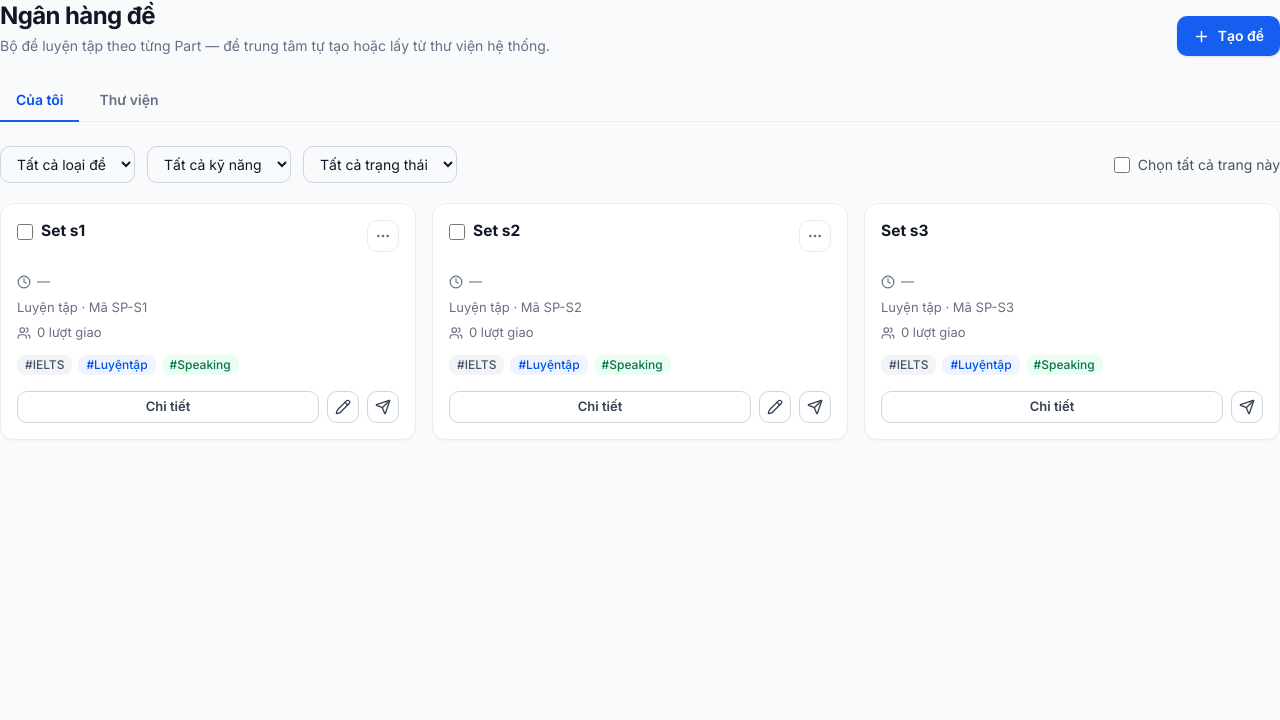
BanksPage lifecycle actions › keeps a set that failed to delete selected and reports the partial result
Expected: the element with test id "bank-card-s1" is shown, [0,203,416,440]
Click the checkbox with test id "bank-select-s1" at (25, 232), box [17,224,33,240]
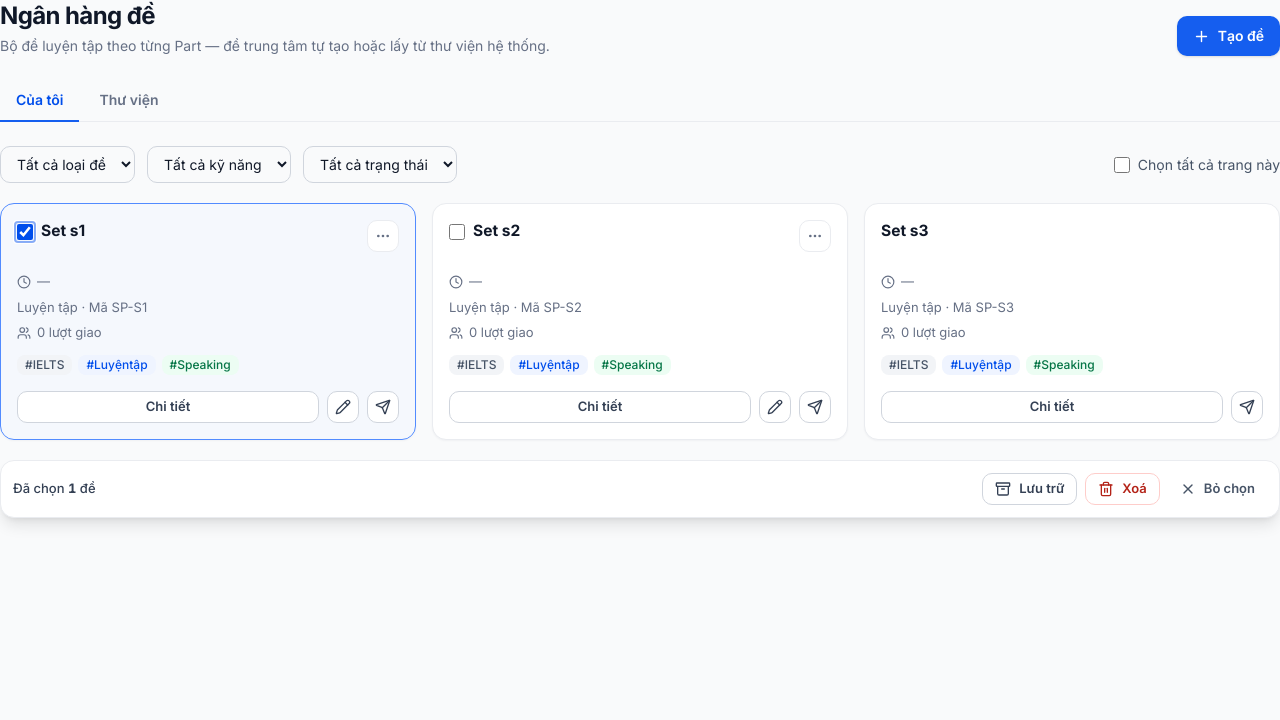
Click the checkbox with test id "bank-select-s2" at (457, 232), box [449,224,465,240]
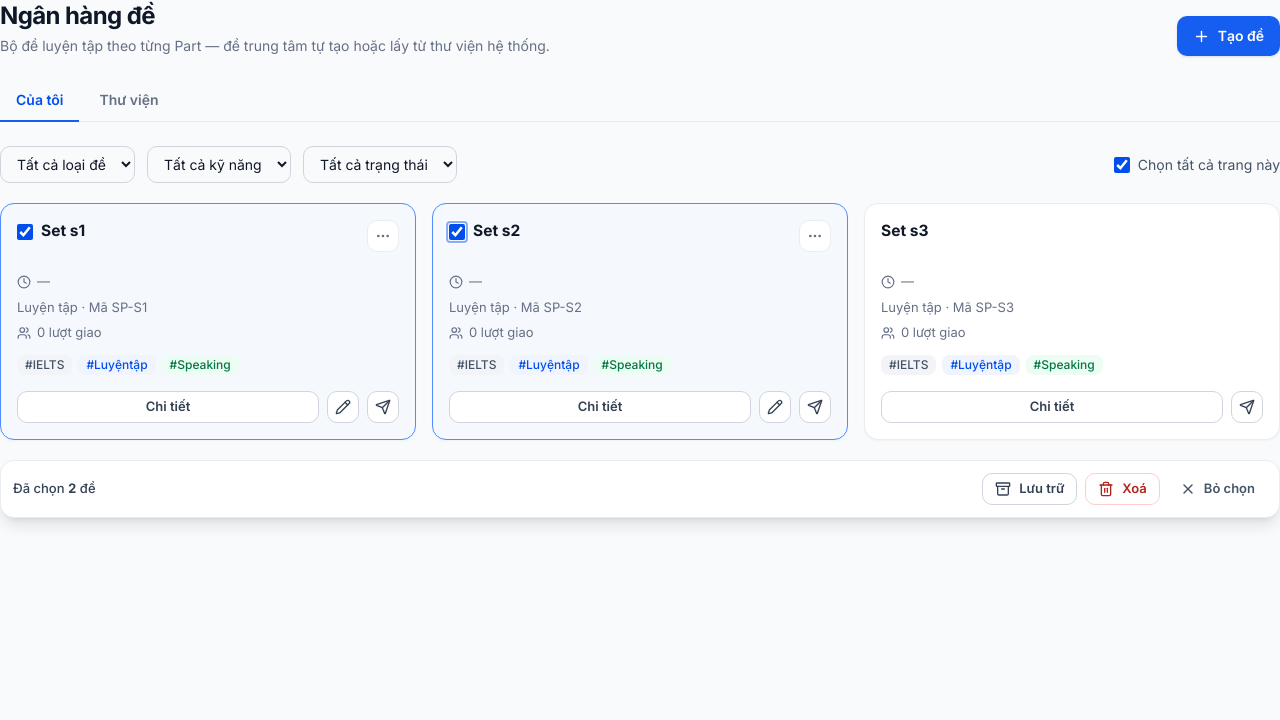
Click the button with test id "set-bulk-delete" at (1123, 488), box [1085,472,1160,504]
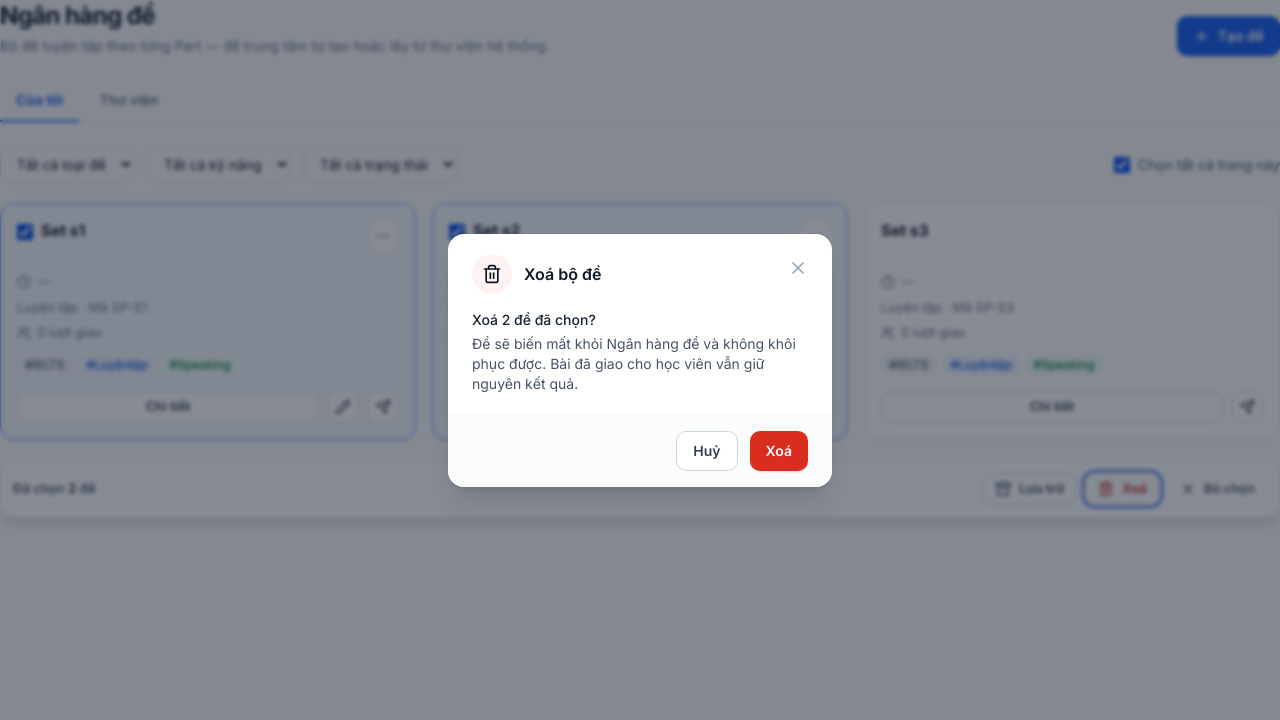
Click the button with test id "set-delete-confirm" at (779, 450), box [750,430,808,470]
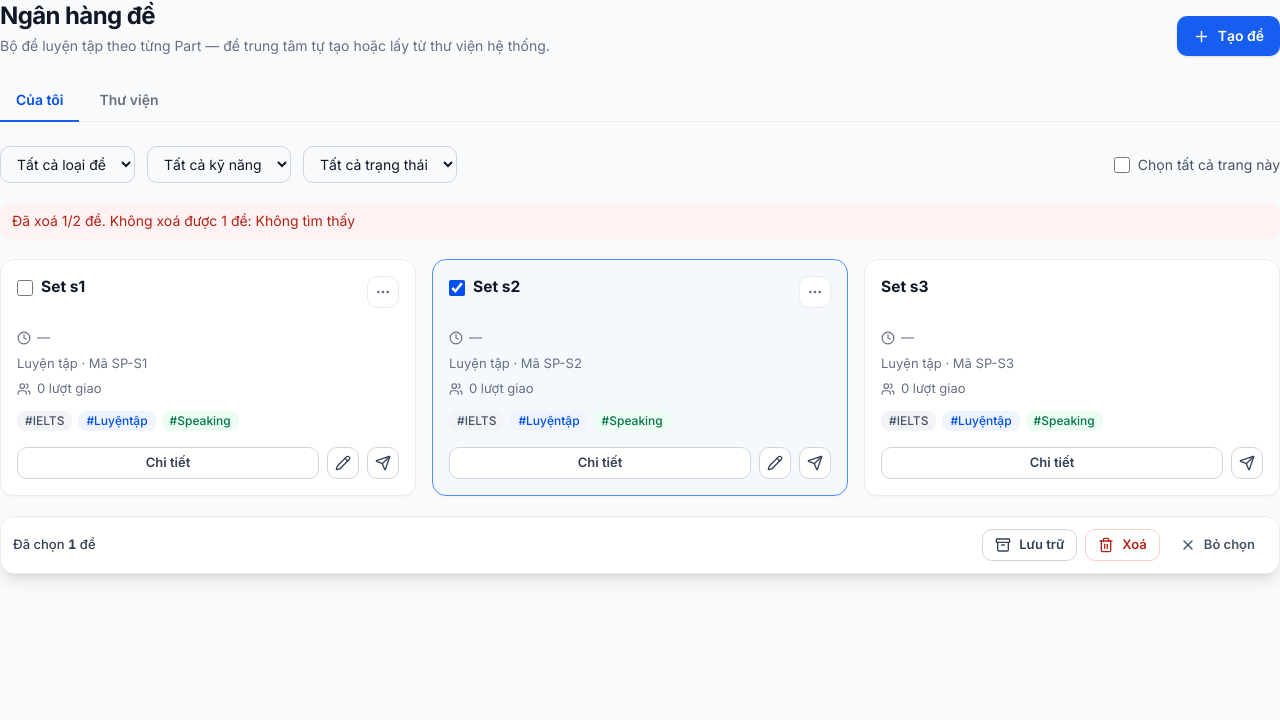
Expected: the checkbox with test id "bank-select-s2" is checked, [449,280,465,296]
Expected: the checkbox with test id "bank-select-s1" is not checked, [17,280,33,296]
Expected: the text with test id "set-lifecycle-message" shows "Đã xoá 1/2 đề", [12,212,355,229]
